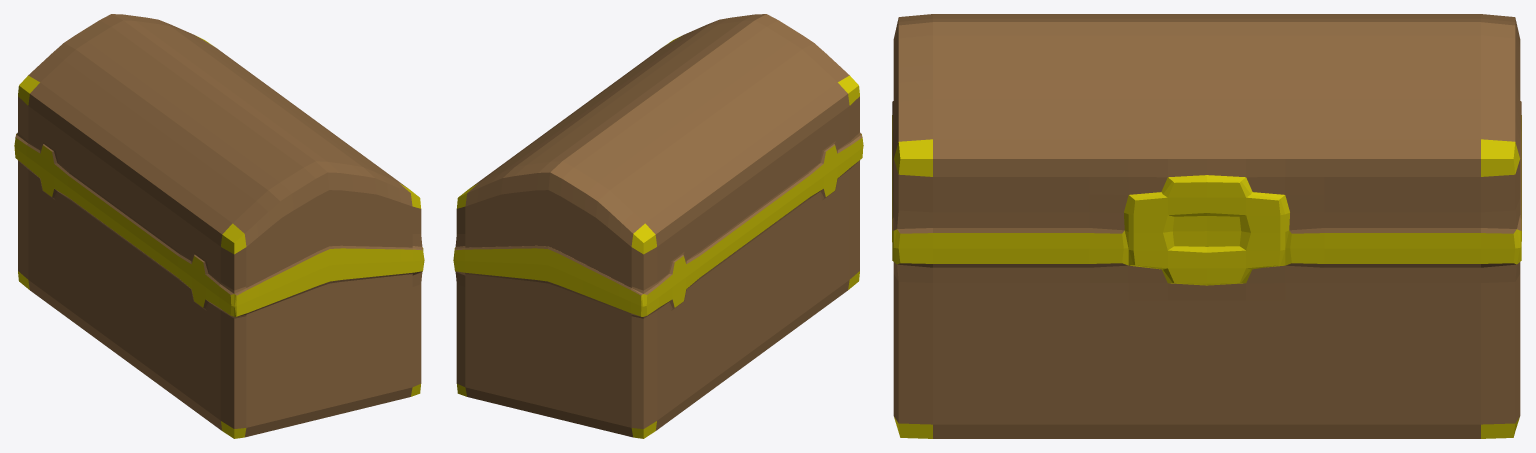
The model's file is Chest.fbx.
3 renders of one model, left to right at view 1: azimuth 30°, elevation 25°; view 2: azimuth 150°, elevation 25°; view 3: azimuth 270°, elevation 25°, orthographic. The views are drawn at different scales.
Parts seen in each view (by area): view 1: Cube; view 2: Cube; view 3: Cube.
Part boxes in pixels (box(x1,y1,x2,y2)): Cube: box(14, 14, 424, 438); Cube: box(453, 14, 863, 438); Cube: box(892, 14, 1521, 438).
Bounding box in the file's own units: 64.76 × 78.49 × 127.
